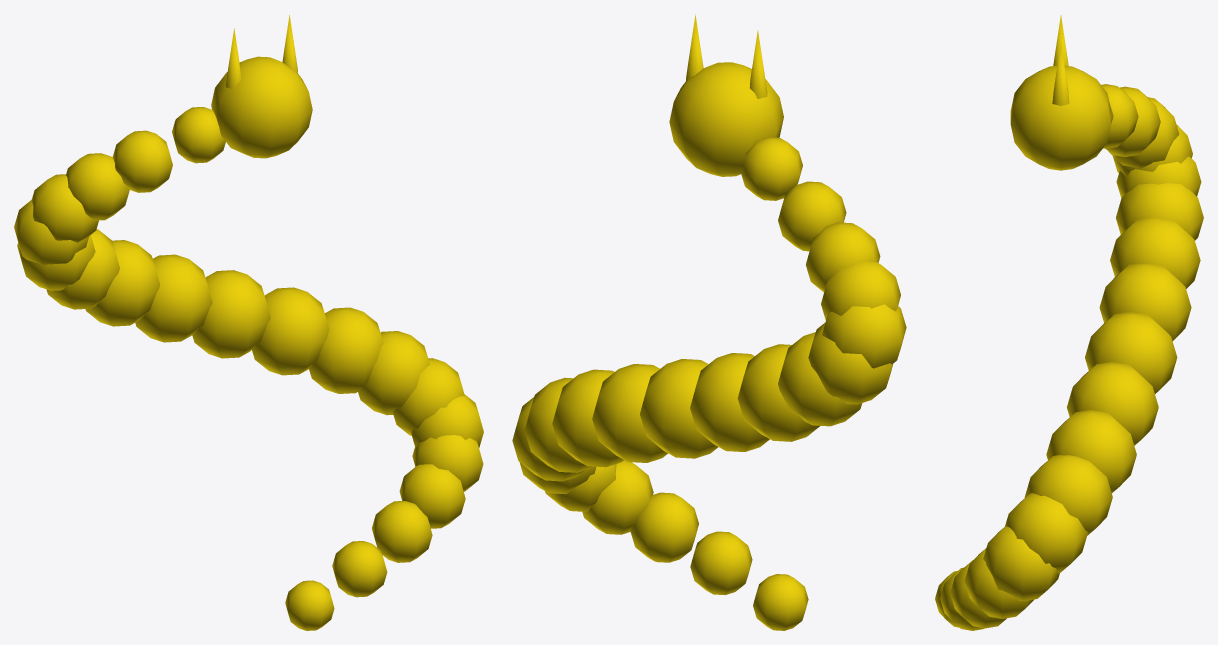
File: 07_rong_ly.glb
3 views of the same model, side by side, from view 1: azimuth 30°, elevation 25°; view 2: azimuth 150°, elevation 25°; view 3: azimuth 270°, elevation 25° (orthographic). The views are drawn at different scales.
Parts seen in each view (by area): view 1: RongThoiLy; view 2: RongThoiLy; view 3: RongThoiLy.
Boxes of the visible parts, left/top/right/bottom form: RongThoiLy: left=14, top=15, right=483, bottom=630; RongThoiLy: left=512, top=14, right=906, bottom=630; RongThoiLy: left=935, top=15, right=1203, bottom=630.
Bounding box in the file's own units: 0.7224 × 0.99 × 0.4068.
